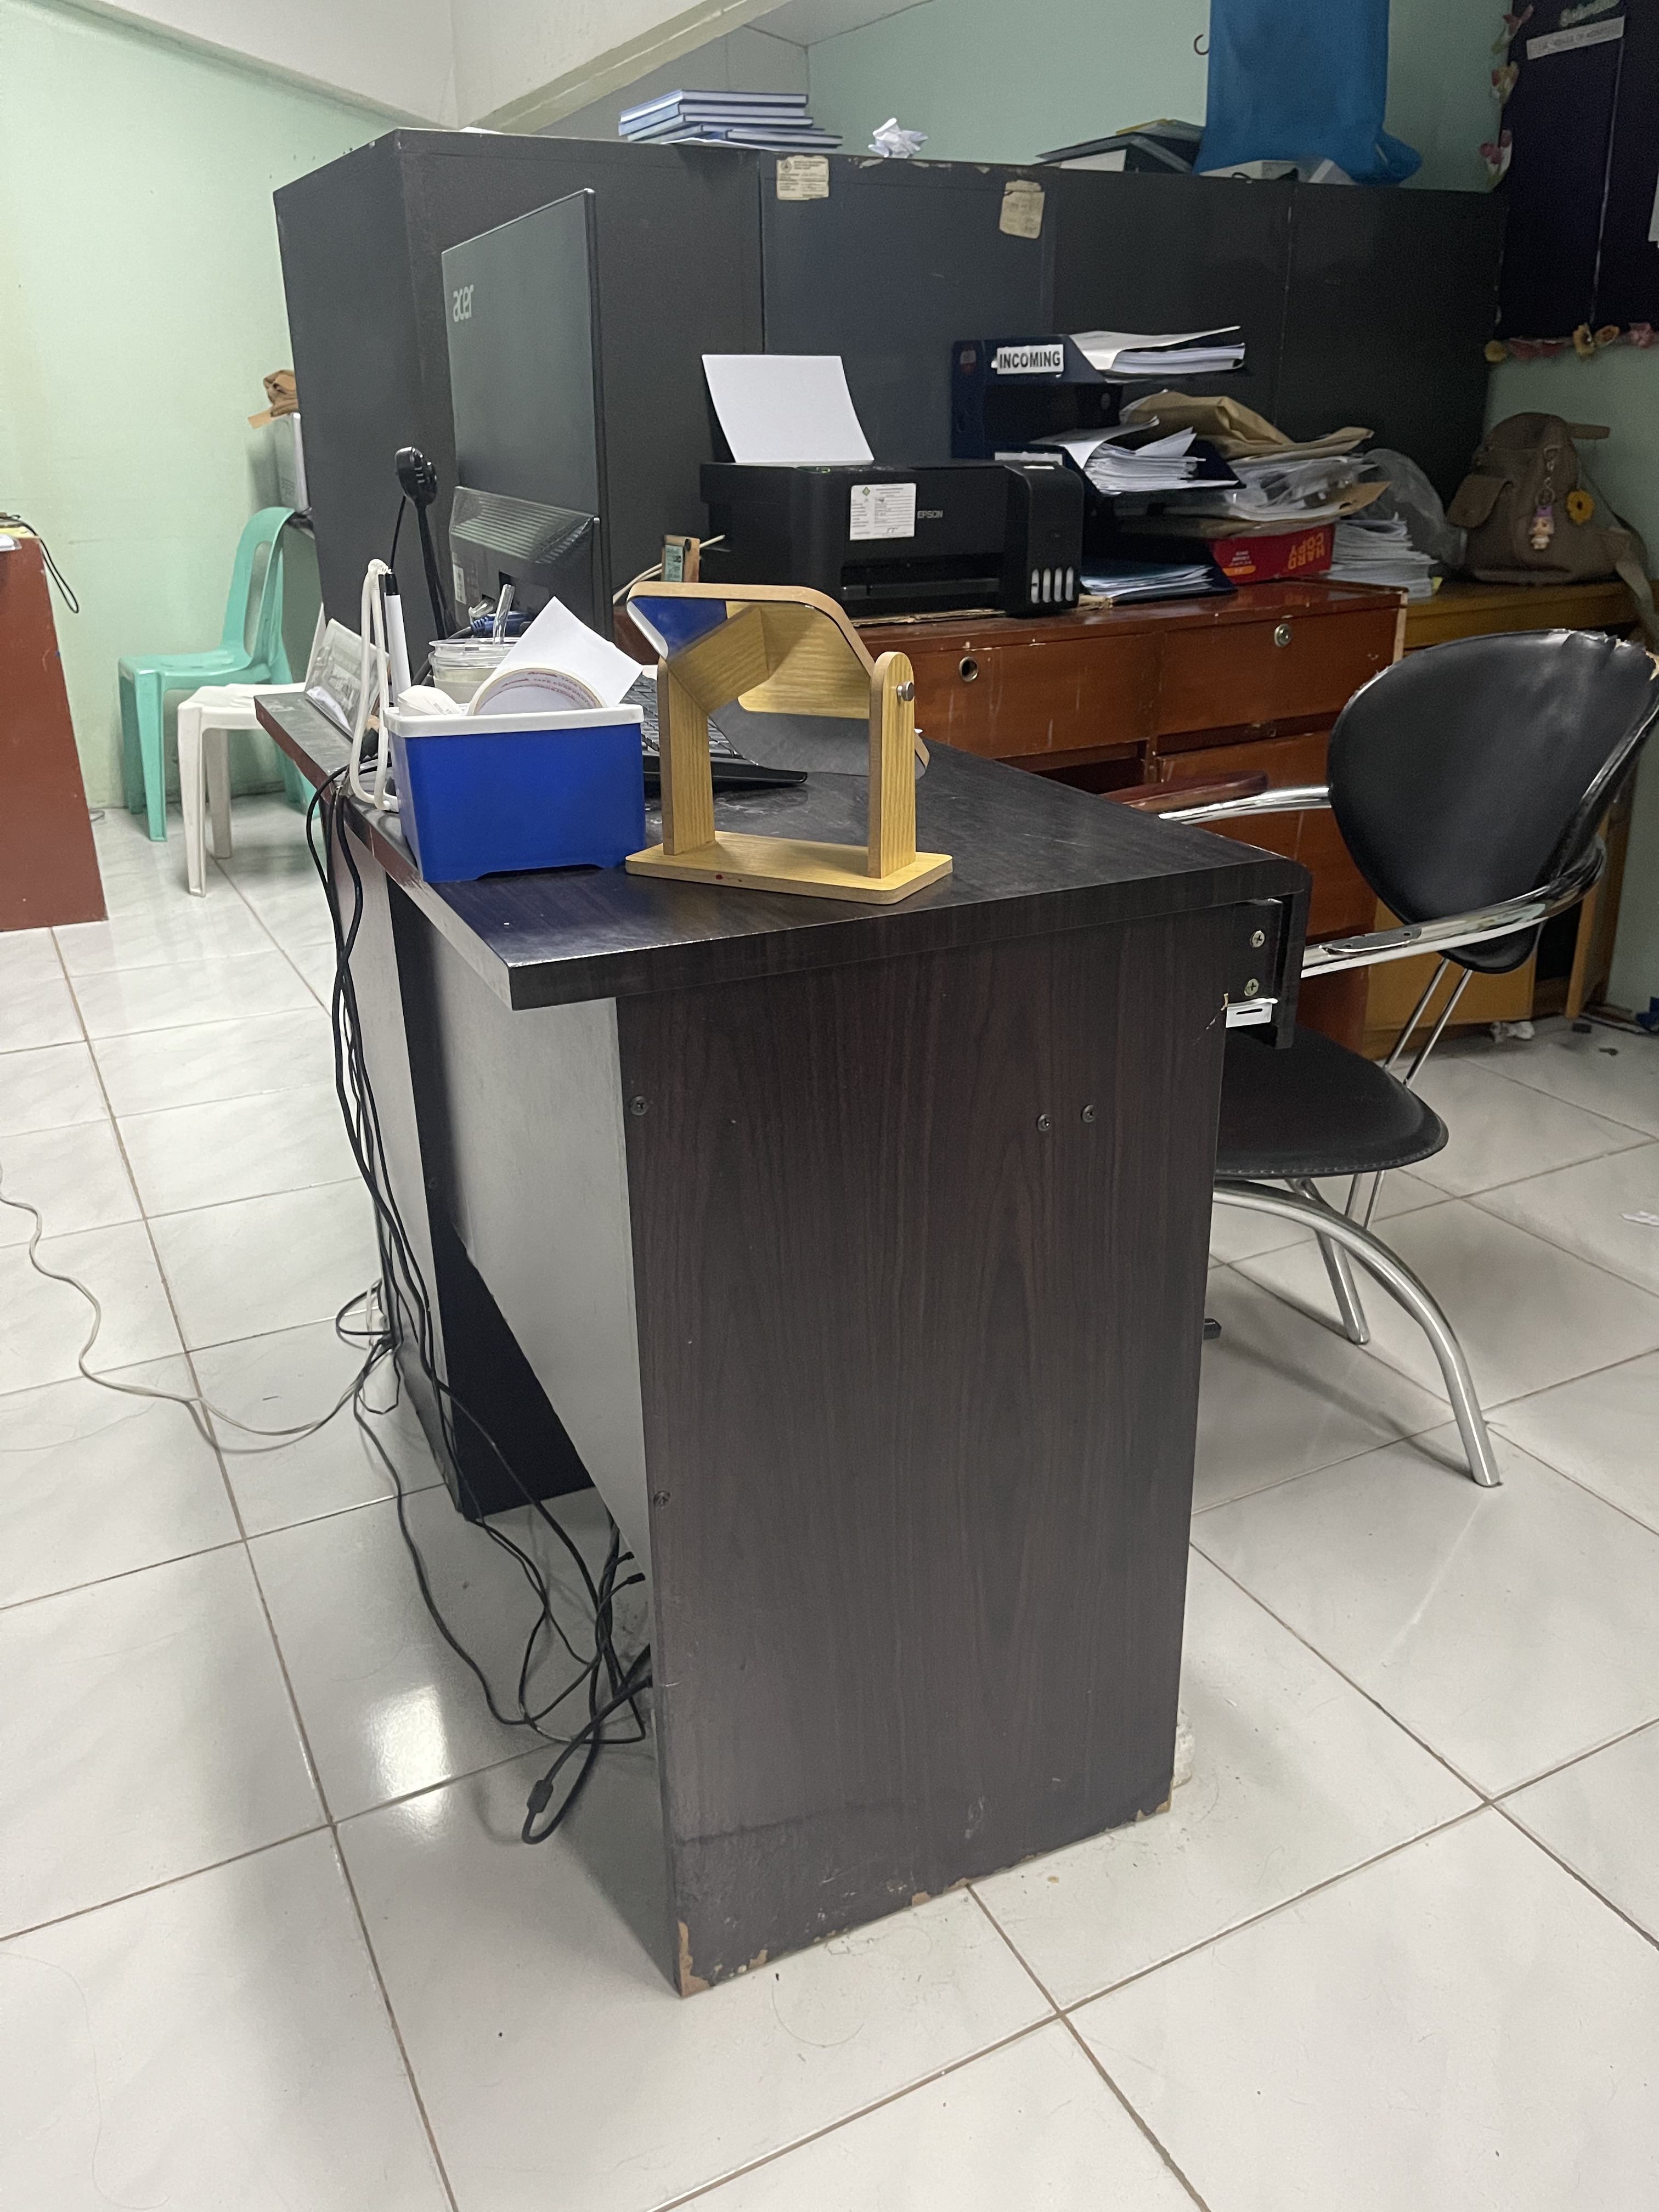table1: (237, 676, 1185, 2024)
